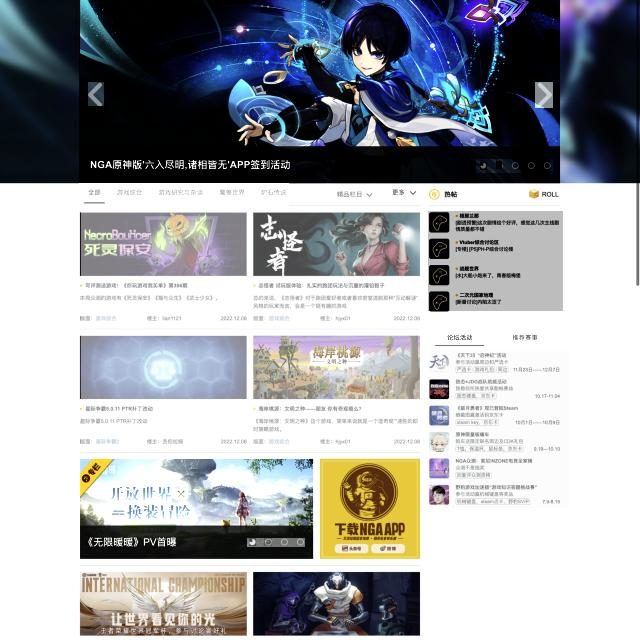ImageView: (79, 0, 560, 184), (79, 458, 314, 559)
QR code: (429, 351, 569, 508), (428, 211, 563, 311)
TextView: (81, 209, 421, 450)
alert: (336, 188, 374, 203), (390, 190, 418, 200)
carousel: (535, 82, 553, 108), (88, 82, 104, 106)
copy: (253, 335, 421, 401), (80, 335, 248, 400), (80, 212, 247, 277), (254, 212, 420, 276)
decoration: (79, 184, 289, 208)
dropdown: (476, 159, 553, 173), (247, 538, 305, 547)
heading: (264, 538, 272, 546), (480, 162, 487, 170), (249, 538, 256, 546), (496, 161, 502, 169)
icon: (429, 328, 564, 349)
